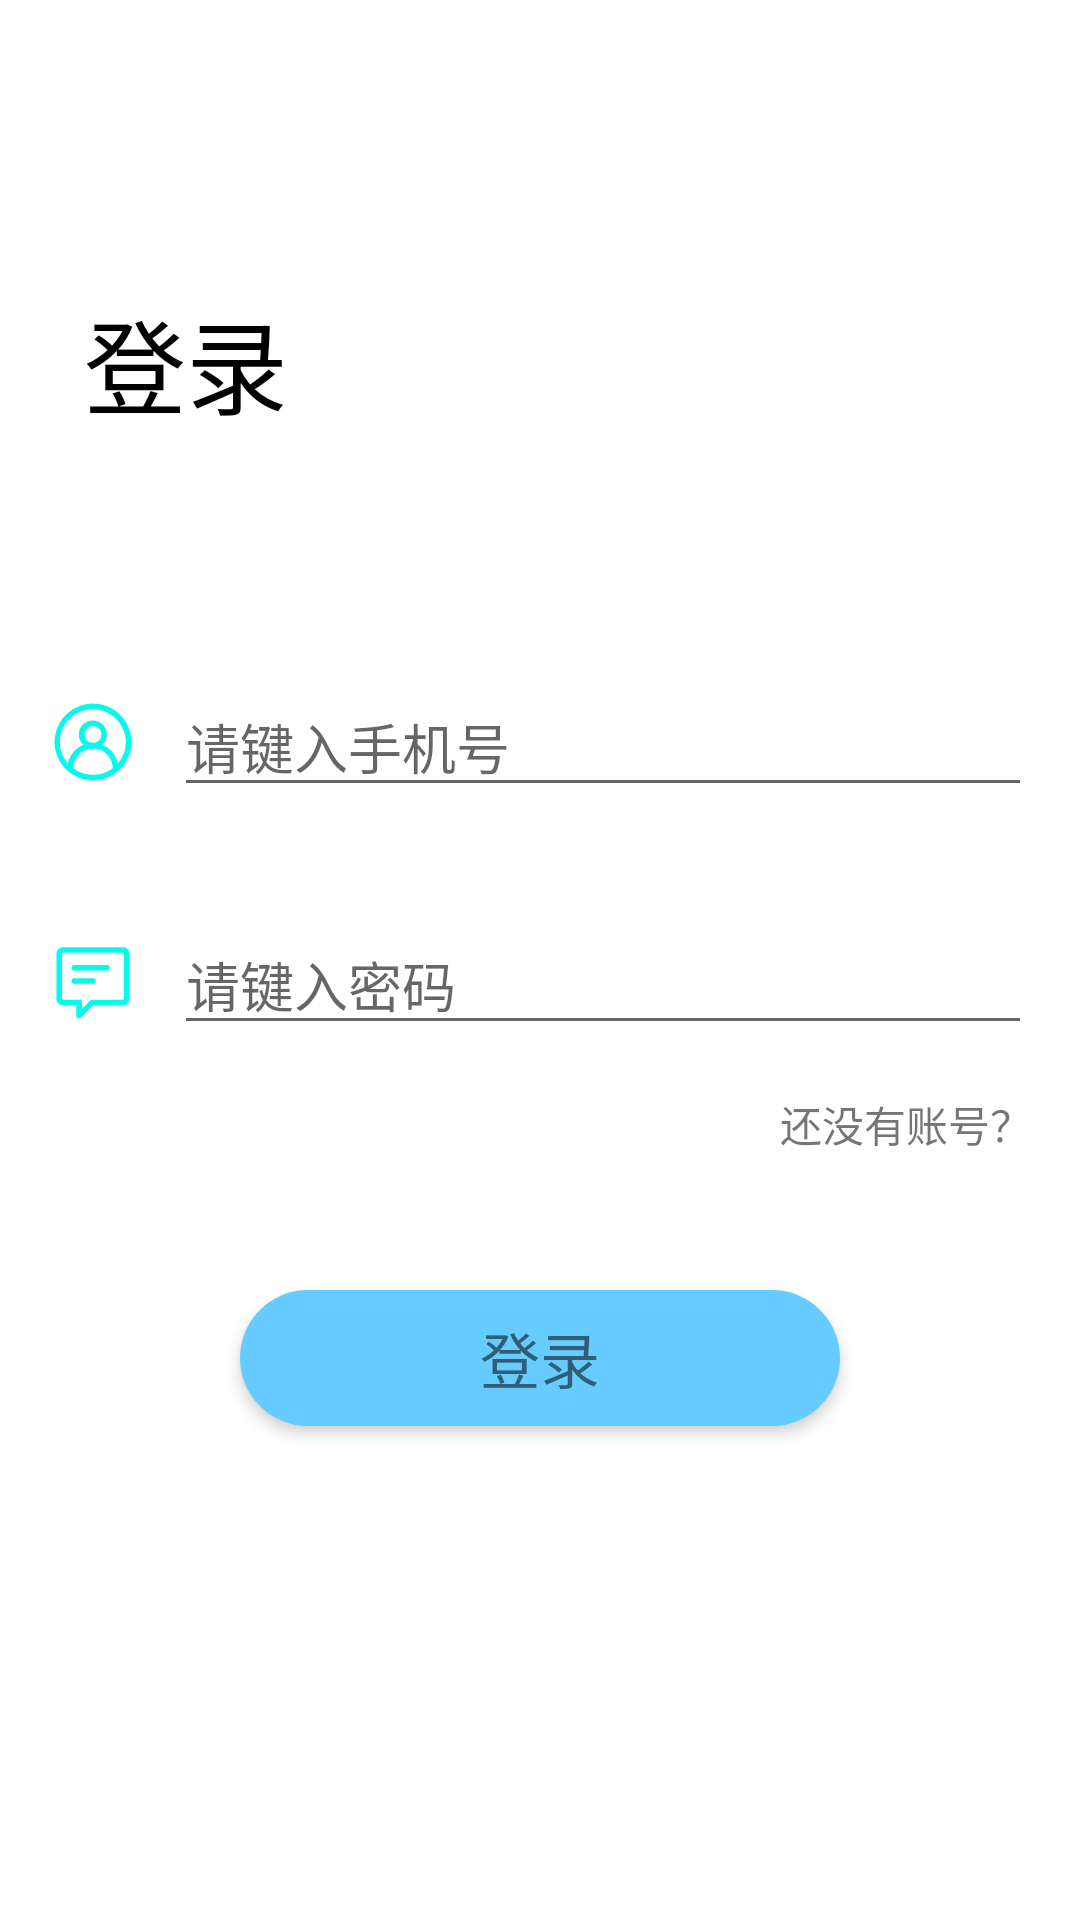

Named icons in this screenshot (1080w x 1920h) and their bounding boxes, (x1, y1, x2, y2):
mine: (54, 703, 132, 781)
